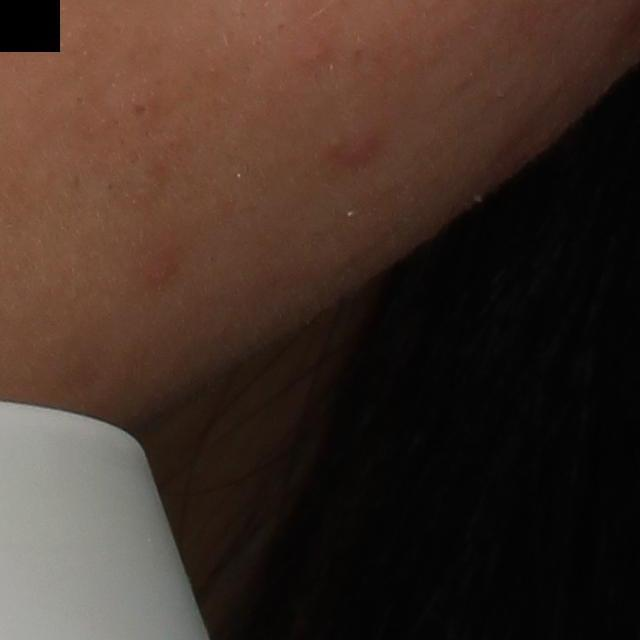comedo: (128, 98, 151, 122)
papule: (328, 128, 381, 159)
